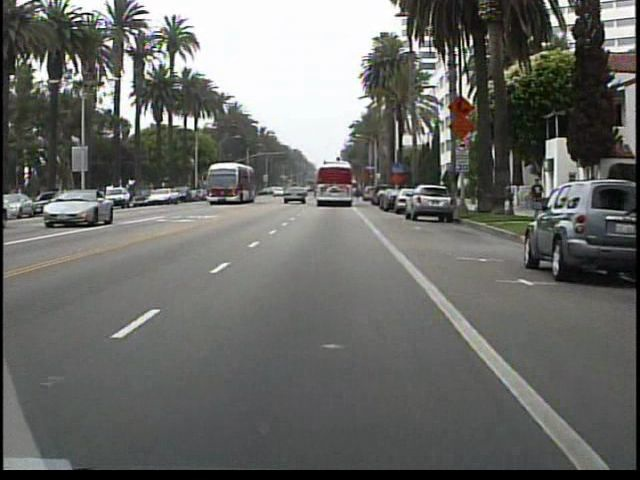person: (526, 173, 548, 224)
